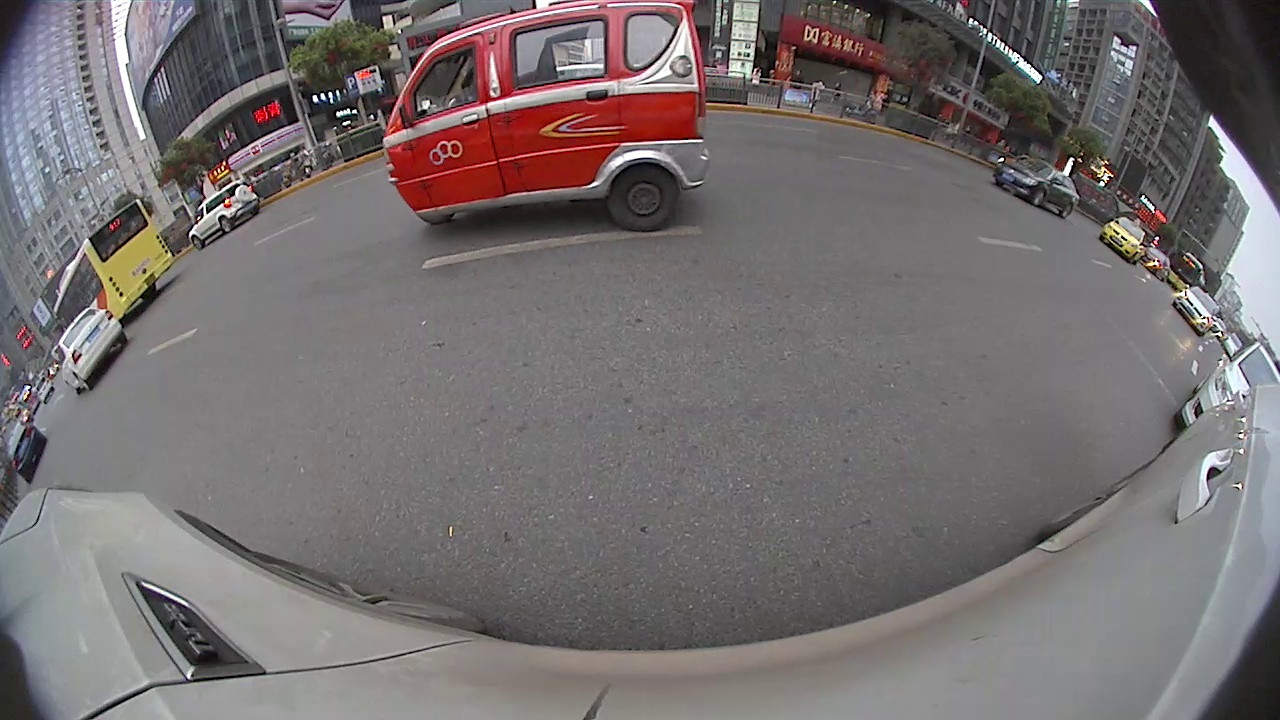bus: (43, 198, 179, 326)
car: (1168, 340, 1279, 433), (53, 302, 131, 392), (991, 152, 1081, 218), (188, 180, 262, 253), (1173, 283, 1221, 335), (1098, 215, 1148, 263)
front: (1029, 188, 1047, 208), (189, 236, 206, 251)
rear: (603, 163, 680, 233), (218, 216, 235, 235), (1059, 201, 1074, 220)
rider: (378, 1, 712, 232)
